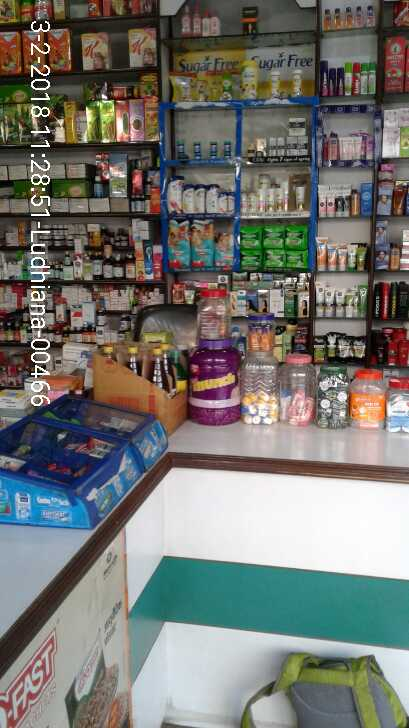vicks: (168, 136, 243, 164)
